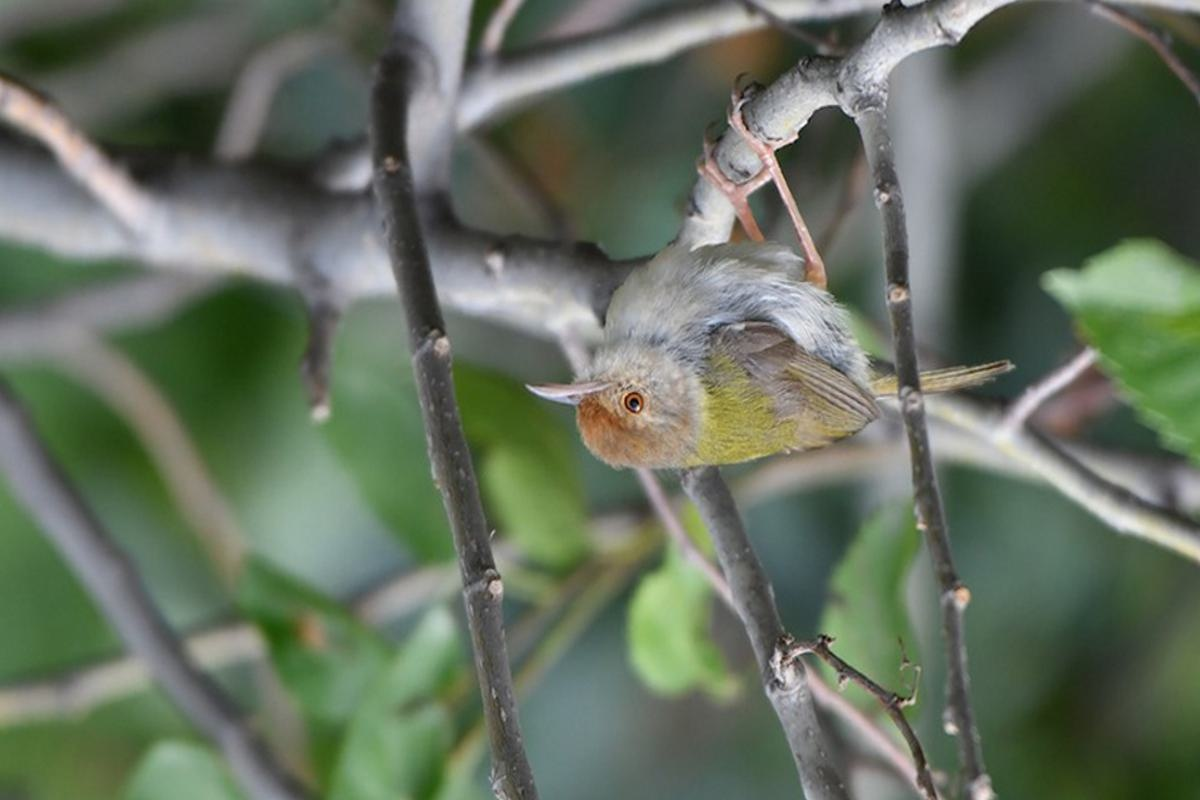tailorbird: (530, 200, 1020, 490)
